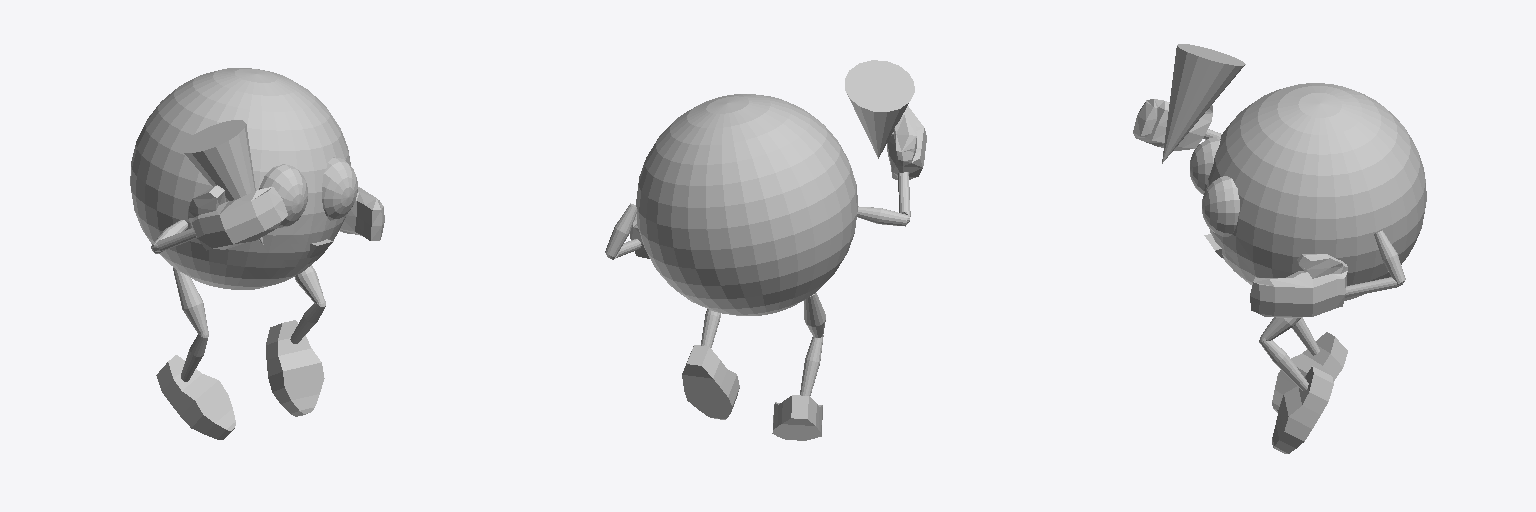
Rendered from runToStand_000030.obj.
3 views of the same model, side by side, from view 1: azimuth 30°, elevation 25°; view 2: azimuth 150°, elevation 25°; view 3: azimuth 270°, elevation 25° (orthographic).
Parts seen in each view (by area): view 1: Rusko_Sphere; view 2: Rusko_Sphere; view 3: Rusko_Sphere.
Boxes of the visible parts, <box> form: Rusko_Sphere: <box>130,68,384,439</box>; Rusko_Sphere: <box>605,60,926,440</box>; Rusko_Sphere: <box>1133,44,1426,453</box>.
Size of the model in its own units: 5.09 by 6.96 by 5.28.